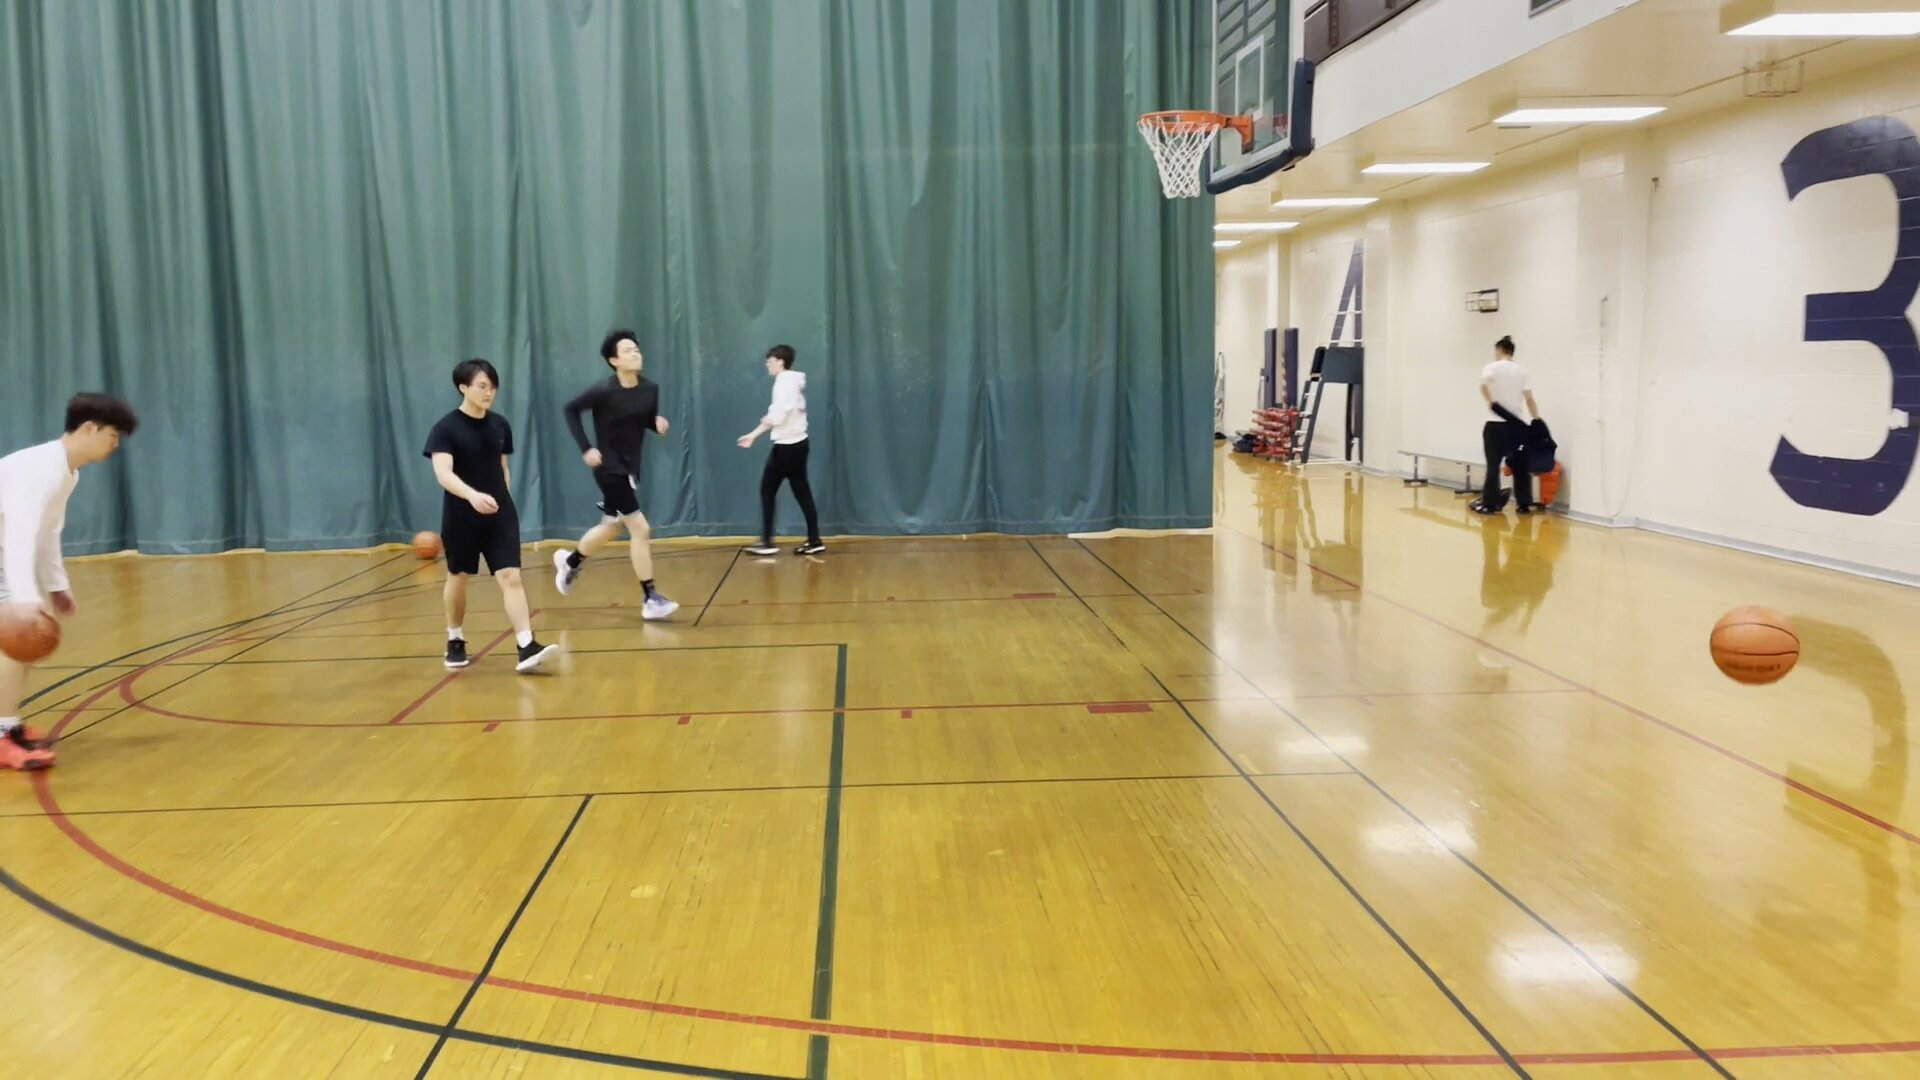ball: (1708, 596, 1811, 698), (2, 606, 70, 672), (408, 530, 444, 562)
net: (1150, 167, 1211, 207)
player: (1, 392, 138, 781), (419, 354, 572, 687), (558, 330, 684, 619), (734, 343, 838, 564), (1472, 332, 1555, 525)
rim: (1129, 108, 1233, 132)
